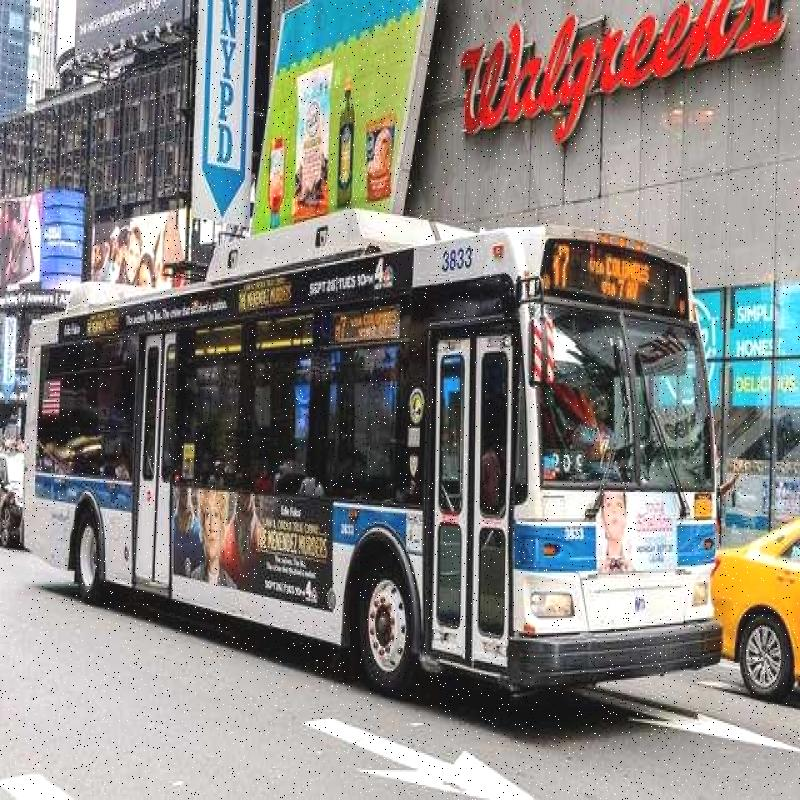bus: (23, 214, 737, 713)
